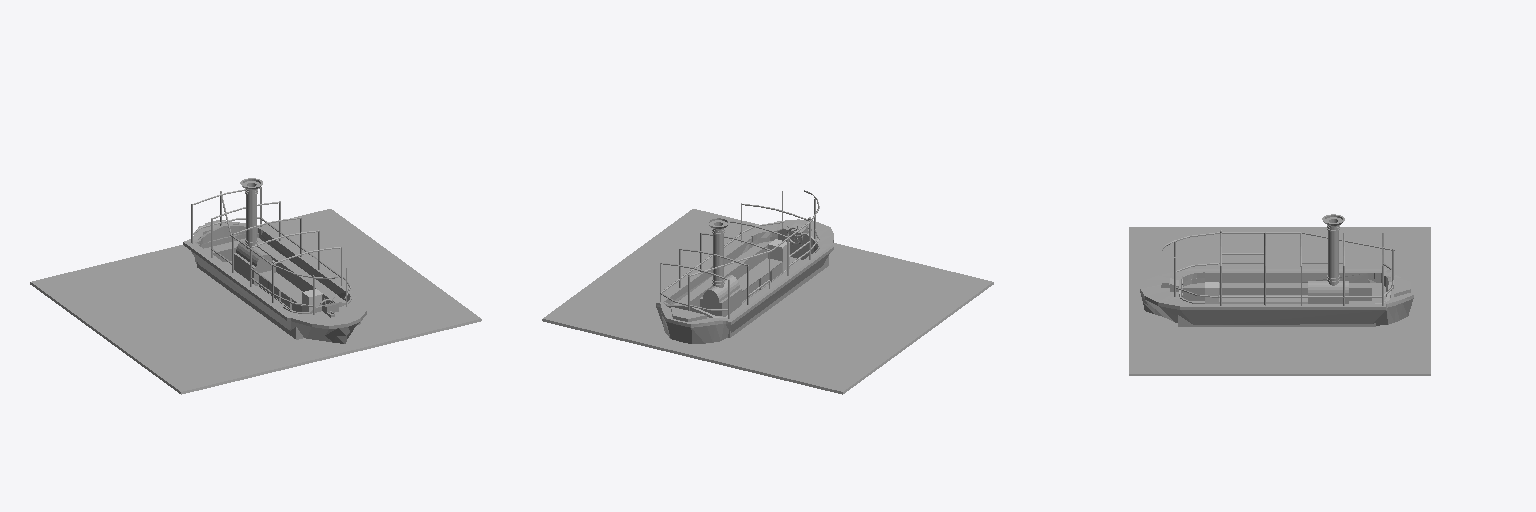
The model's file is boat.obj.
3 views of the same model, side by side, from view 1: azimuth 30°, elevation 25°; view 2: azimuth 150°, elevation 25°; view 3: azimuth 270°, elevation 25° (orthographic).
Parts seen in each view (by area): view 1: Box4, Box, Box3, Box1, Engine, Smoke_Stack, Box2; view 2: Box4, Box, Box3, Box1, Engine, Smoke_Stack, Box2; view 3: Box4, Box, Box2, Box3, Engine, Smoke_Stack, Box1.
Part boxes in pixels (x1,y1,x2,y2): Box4: (30,209,481,394); Box: (183,221,366,343); Box3: (258,270,322,311); Box1: (257,240,360,324); Engine: (234,240,275,285); Smoke_Stack: (240,178,262,248); Box2: (197,255,303,339); Box4: (542,209,993,394); Box: (656,219,833,343); Box3: (738,239,789,302); Box1: (674,241,771,306); Engine: (700,275,741,316); Smoke_Stack: (707,217,729,287); Box2: (728,252,828,337); Box4: (1129,227,1430,375); Box: (1140,269,1413,325); Box2: (1181,283,1376,300); Box3: (1205,282,1307,303); Engine: (1308,281,1348,303); Smoke_Stack: (1322,214,1344,285); Box1: (1178,315,1375,326).
Size of the model in its own units: 35.88 by 10.92 by 31.16.